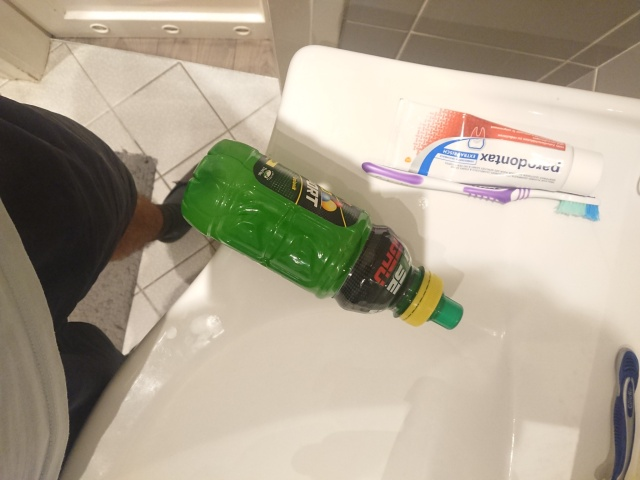Vindi Iso Sport Lemon-Grapefruit 500mL: (178, 136, 466, 332)
